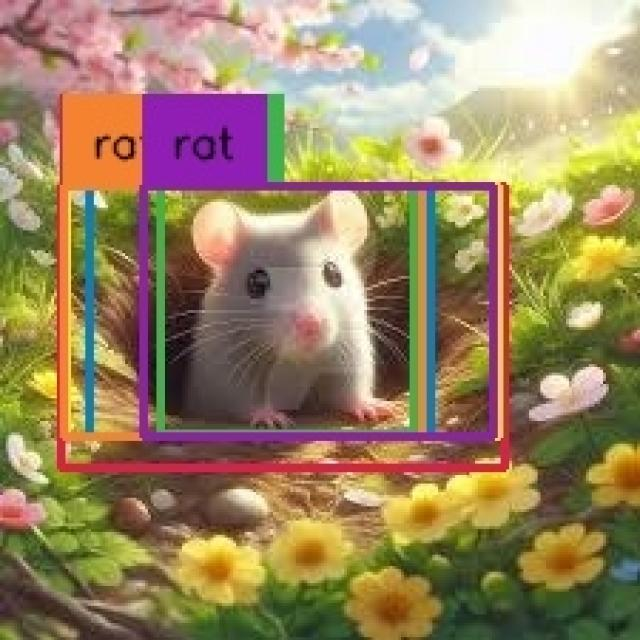rat: (60, 185, 506, 466), (68, 185, 501, 438), (65, 185, 424, 438), (145, 185, 492, 435), (88, 185, 430, 438), (161, 186, 414, 434)
